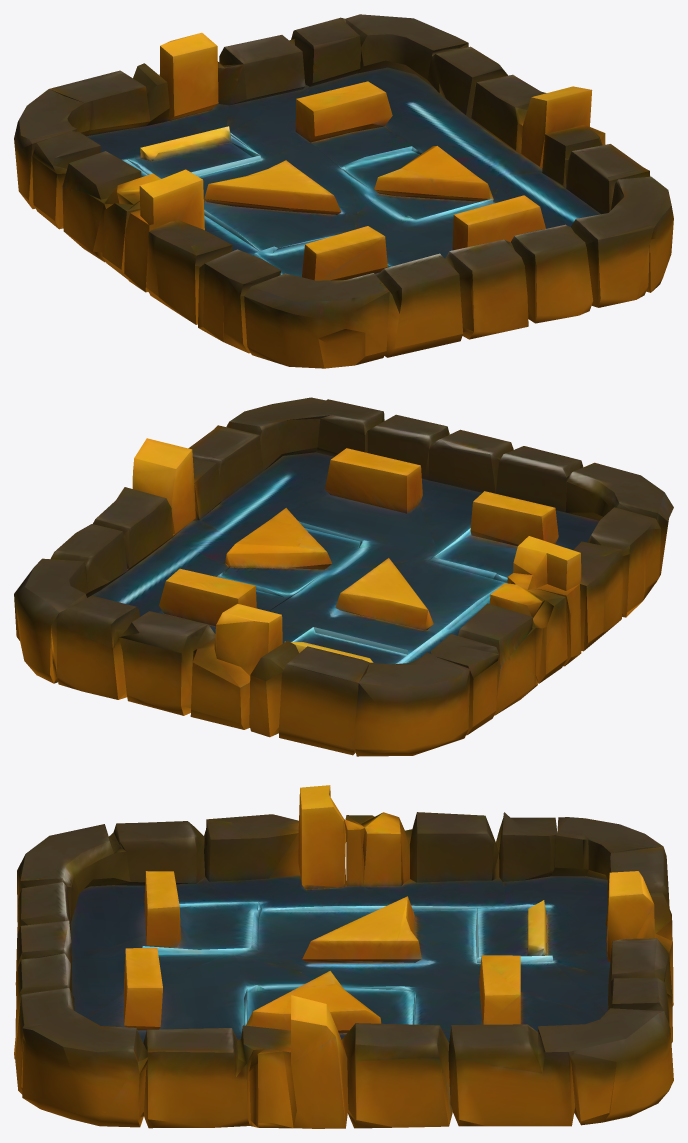
File: m2SpeedBoost.glb
The picture shows the model from 3 angles, top to bottom: view 1: azimuth 30°, elevation 25°; view 2: azimuth 150°, elevation 25°; view 3: azimuth 270°, elevation 25°; orthographic projection. The views are drawn at different scales.
Visible parts, largest first — view 1: model; view 2: model; view 3: model.
Boxes of the visible parts, <box> form: model: <box>14,14,673,368</box>; model: <box>14,397,673,756</box>; model: <box>14,785,673,1128</box>.
Bounding box in the file's own units: 1.66 × 0.3657 × 1.9.
1 material, 1 textured.
